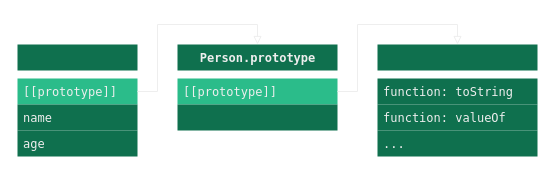
Some shapes in this 554 by 177 pixel diagram are drawn without their labels. Each missing label, with the box of its shape:
function: sayHello: (177, 104, 337, 130)
Object.prototype: (377, 44, 537, 156)
person: (17, 44, 137, 156)
